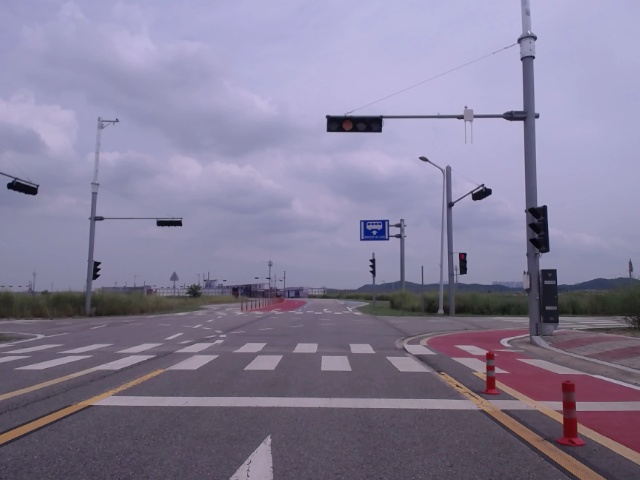orange_4: (325, 114, 383, 134)
